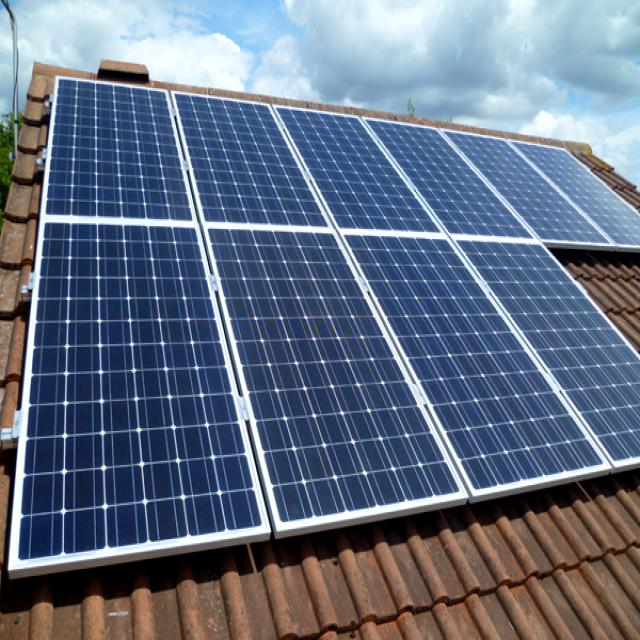crack: (32, 211, 279, 640), (330, 220, 620, 578), (194, 211, 448, 554), (450, 221, 640, 502), (166, 71, 344, 258), (352, 88, 538, 260), (266, 78, 448, 250), (442, 105, 608, 274), (45, 71, 203, 248)
